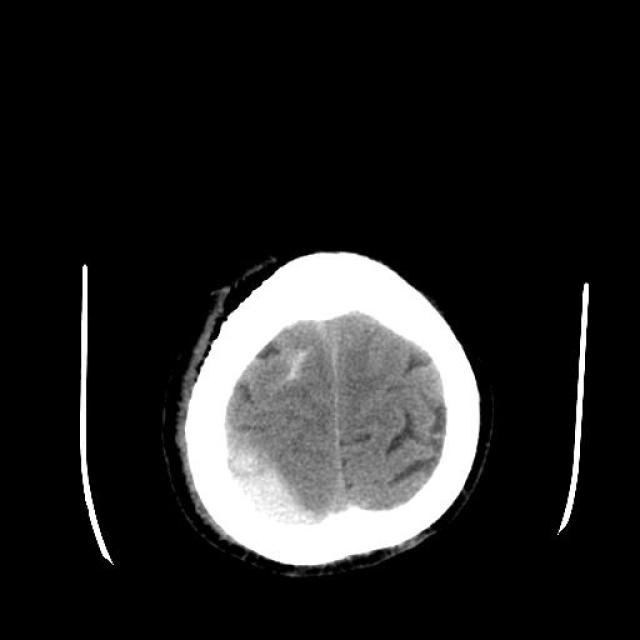Subarachnoid: (260, 335, 312, 405)
Subdural: (208, 446, 318, 545)
